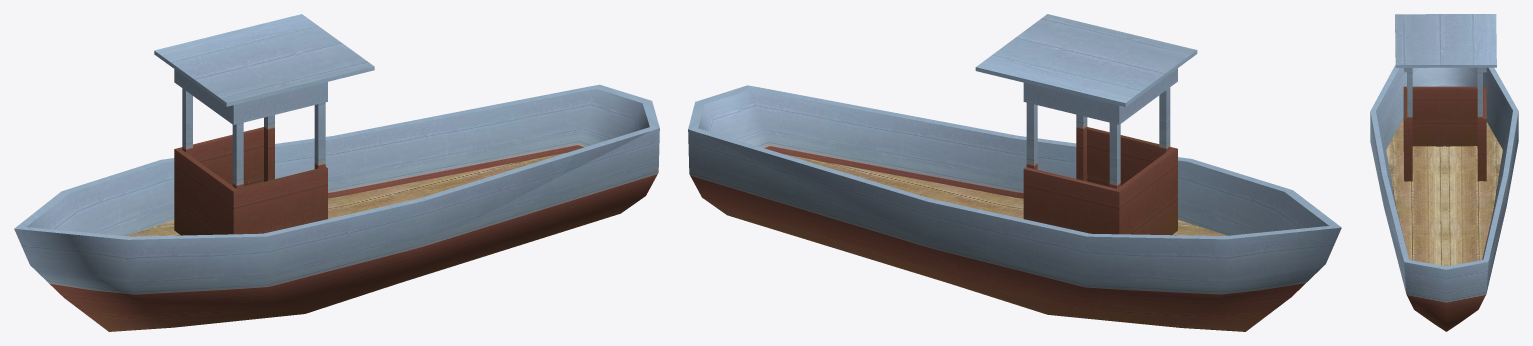
File: Boat1.fbx
3 renders of one model, left to right at view 1: azimuth 30°, elevation 25°; view 2: azimuth 150°, elevation 25°; view 3: azimuth 270°, elevation 25°, orthographic. The views are drawn at different scales.
Parts seen in each view (by area): view 1: fishing_boat; view 2: fishing_boat; view 3: fishing_boat.
Part boxes in pixels (<box>): fishing_boat: <box>14,14,659,331</box>; fishing_boat: <box>688,14,1341,331</box>; fishing_boat: <box>1370,14,1518,331</box>.
Bounding box in the file's own units: 517 × 181 × 147.
